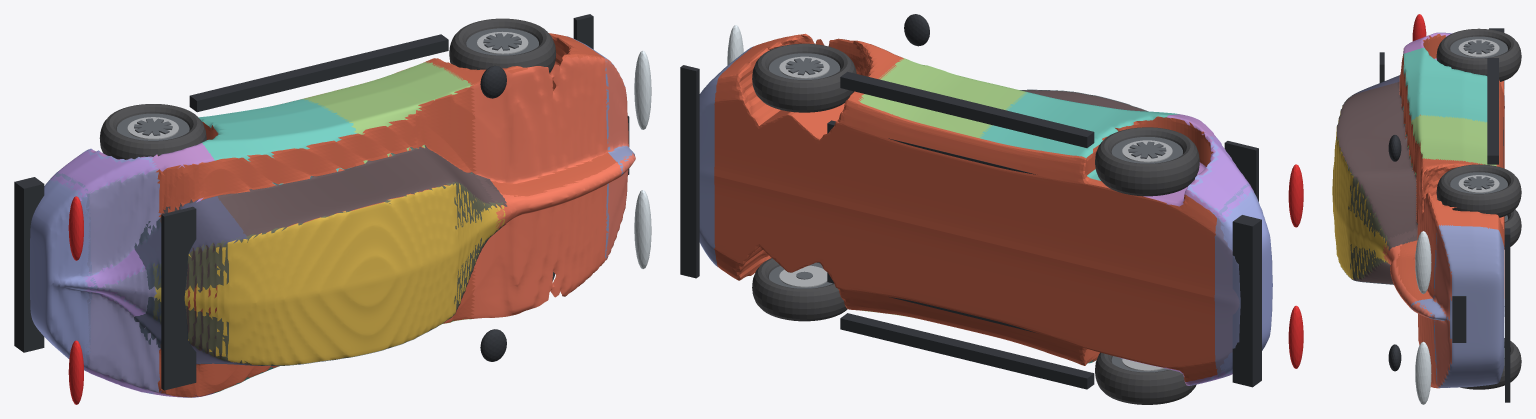
File: modern_car_v2_crossover.glb
The picture shows the model from 3 angles, left to right: view 1: azimuth 30°, elevation 25°; view 2: azimuth 150°, elevation 25°; view 3: azimuth 270°, elevation 25°; orthographic projection. The views are drawn at different scales.
Parts seen in each view (by area): view 1: panel_roof, panel_hood, body, panel_rear_hatch, greenhouse_glass, panel_rear_quarter_right, panel_rear_door_right, panel_front_door_right, rear_spoiler, side_skirt_R, rear_diffuser, rear_R_tyre (+13 smaller); view 2: body, panel_front_door_right, panel_rear_door_right, side_skirt_L, side_skirt_R, rear_R_tyre, rear_diffuser, front_R_tyre, front_splitter, panel_rear_quarter_right, front_L_tyre, panel_rear_bumper (+12 smaller); view 3: body, greenhouse_glass, panel_front_bumper, panel_hood, panel_rear_door_right, panel_roof, panel_front_door_right, front_R_tyre, rear_R_tyre, side_skirt_R, front_splitter, headlamp_L (+13 smaller).
Boxes of the visible parts, x1,y1,x2,y2 form: panel_roof: [153, 182, 505, 365]; panel_hood: [470, 56, 635, 318]; body: [155, 33, 617, 397]; panel_rear_hatch: [30, 148, 161, 393]; greenhouse_glass: [134, 145, 507, 365]; panel_rear_quarter_right: [51, 143, 246, 287]; panel_rear_door_right: [198, 99, 357, 184]; panel_front_door_right: [302, 61, 473, 173]; rear_spoiler: [161, 206, 196, 390]; side_skirt_R: [189, 34, 448, 112]; rear_diffuser: [14, 177, 44, 352]; rear_R_tyre: [99, 104, 206, 159]; body: [714, 33, 1217, 384]; panel_front_door_right: [858, 58, 1027, 138]; panel_rear_door_right: [979, 91, 1179, 180]; side_skirt_L: [840, 313, 1094, 389]; side_skirt_R: [840, 71, 1094, 147]; rear_R_tyre: [1095, 127, 1199, 196]; rear_diffuser: [1232, 215, 1261, 387]; front_R_tyre: [752, 43, 856, 112]; front_splitter: [680, 65, 699, 278]; panel_rear_quarter_right: [1143, 114, 1253, 222]; front_L_tyre: [752, 258, 847, 321]; panel_rear_bumper: [1214, 183, 1249, 377]; body: [1337, 34, 1504, 388]; greenhouse_glass: [1336, 75, 1417, 284]; panel_front_bumper: [1410, 225, 1504, 387]; panel_hood: [1382, 159, 1451, 387]; panel_rear_door_right: [1403, 48, 1487, 135]; panel_roof: [1332, 106, 1389, 279]; panel_front_door_right: [1407, 115, 1496, 224]; front_R_tyre: [1436, 164, 1521, 217]; rear_R_tyre: [1436, 28, 1521, 81]; side_skirt_R: [1487, 58, 1498, 164]; front_splitter: [1505, 228, 1510, 402]; headlamp_L: [1415, 341, 1431, 404].
Bounding box in the file's own units: 4.6 × 2.22 × 1.62.
